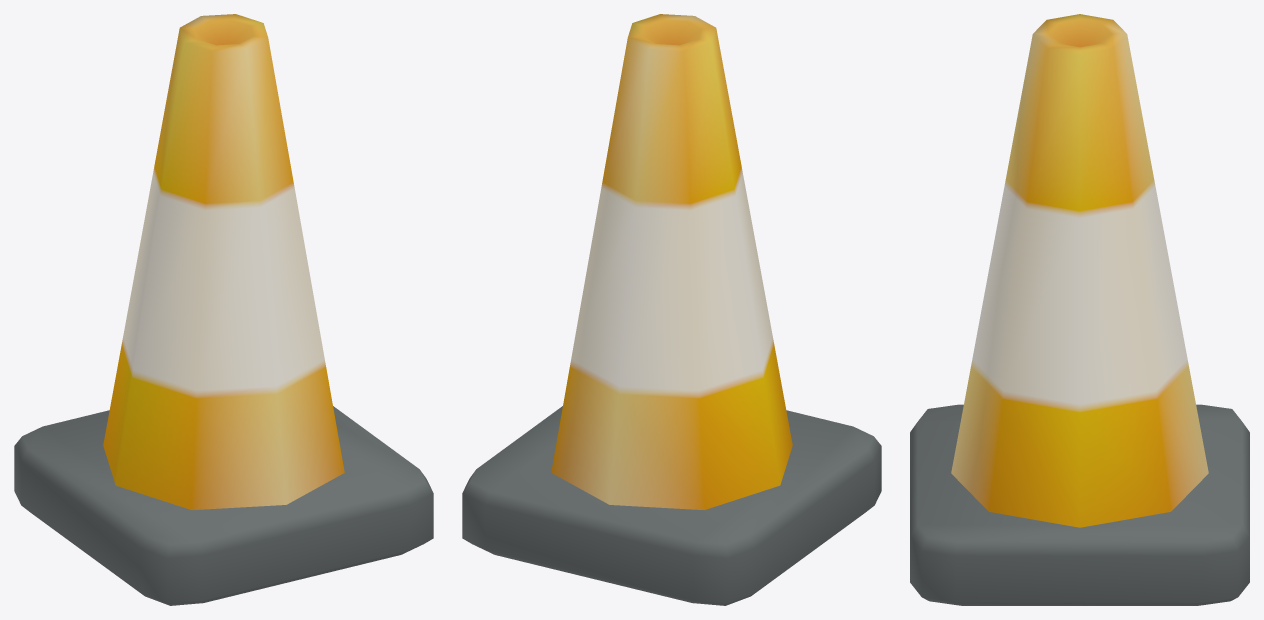
File: ObstacleRoadworksCone.prefab.glb
3 views of the same model, side by side, from view 1: azimuth 30°, elevation 25°; view 2: azimuth 150°, elevation 25°; view 3: azimuth 270°, elevation 25° (orthographic). The views are drawn at different scales.
Parts seen in each view (by area): view 1: RoadWorksCone; view 2: RoadWorksCone; view 3: RoadWorksCone.
Part boxes in pixels (left/top/right/bottom): RoadWorksCone: left=14, top=14, right=433, bottom=605; RoadWorksCone: left=462, top=14, right=881, bottom=605; RoadWorksCone: left=910, top=14, right=1249, bottom=605.
Size of the model in its own units: 0.6196 by 1.01 by 0.6196.
